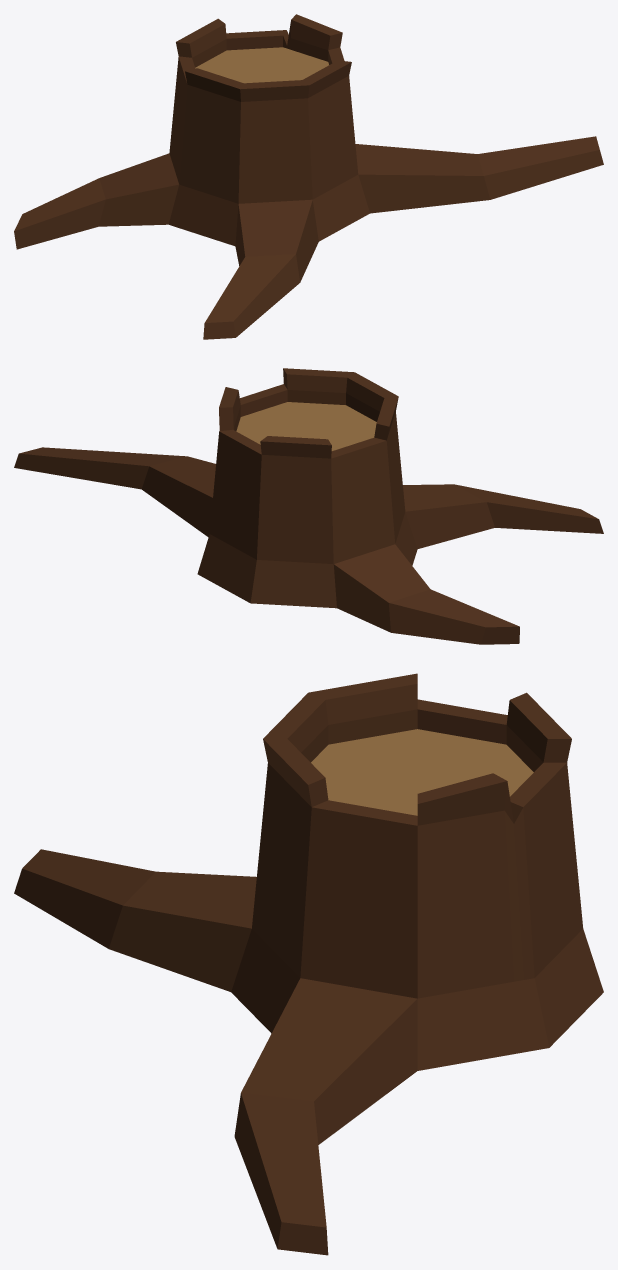
The model's file is Stump.fbx.
3 renders of one model, top to bottom at view 1: azimuth 30°, elevation 25°; view 2: azimuth 150°, elevation 25°; view 3: azimuth 270°, elevation 25°, orthographic. The views are drawn at different scales.
Parts seen in each view (by area): view 1: Circle; view 2: Circle; view 3: Circle.
Part boxes in pixels (x1,y1,x2,y2): Circle: [14, 14, 603, 339]; Circle: [14, 368, 603, 644]; Circle: [14, 673, 603, 1255].
Bounding box in the file's own units: 834 × 248 × 468.
